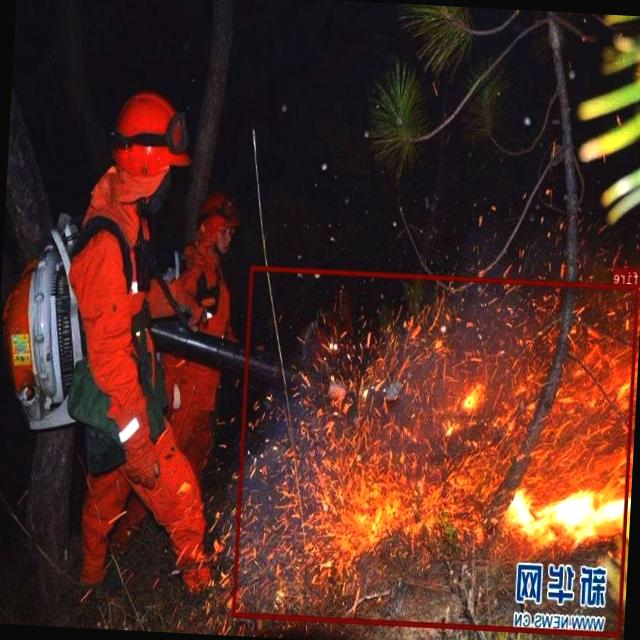fire: (233, 266, 640, 636)
